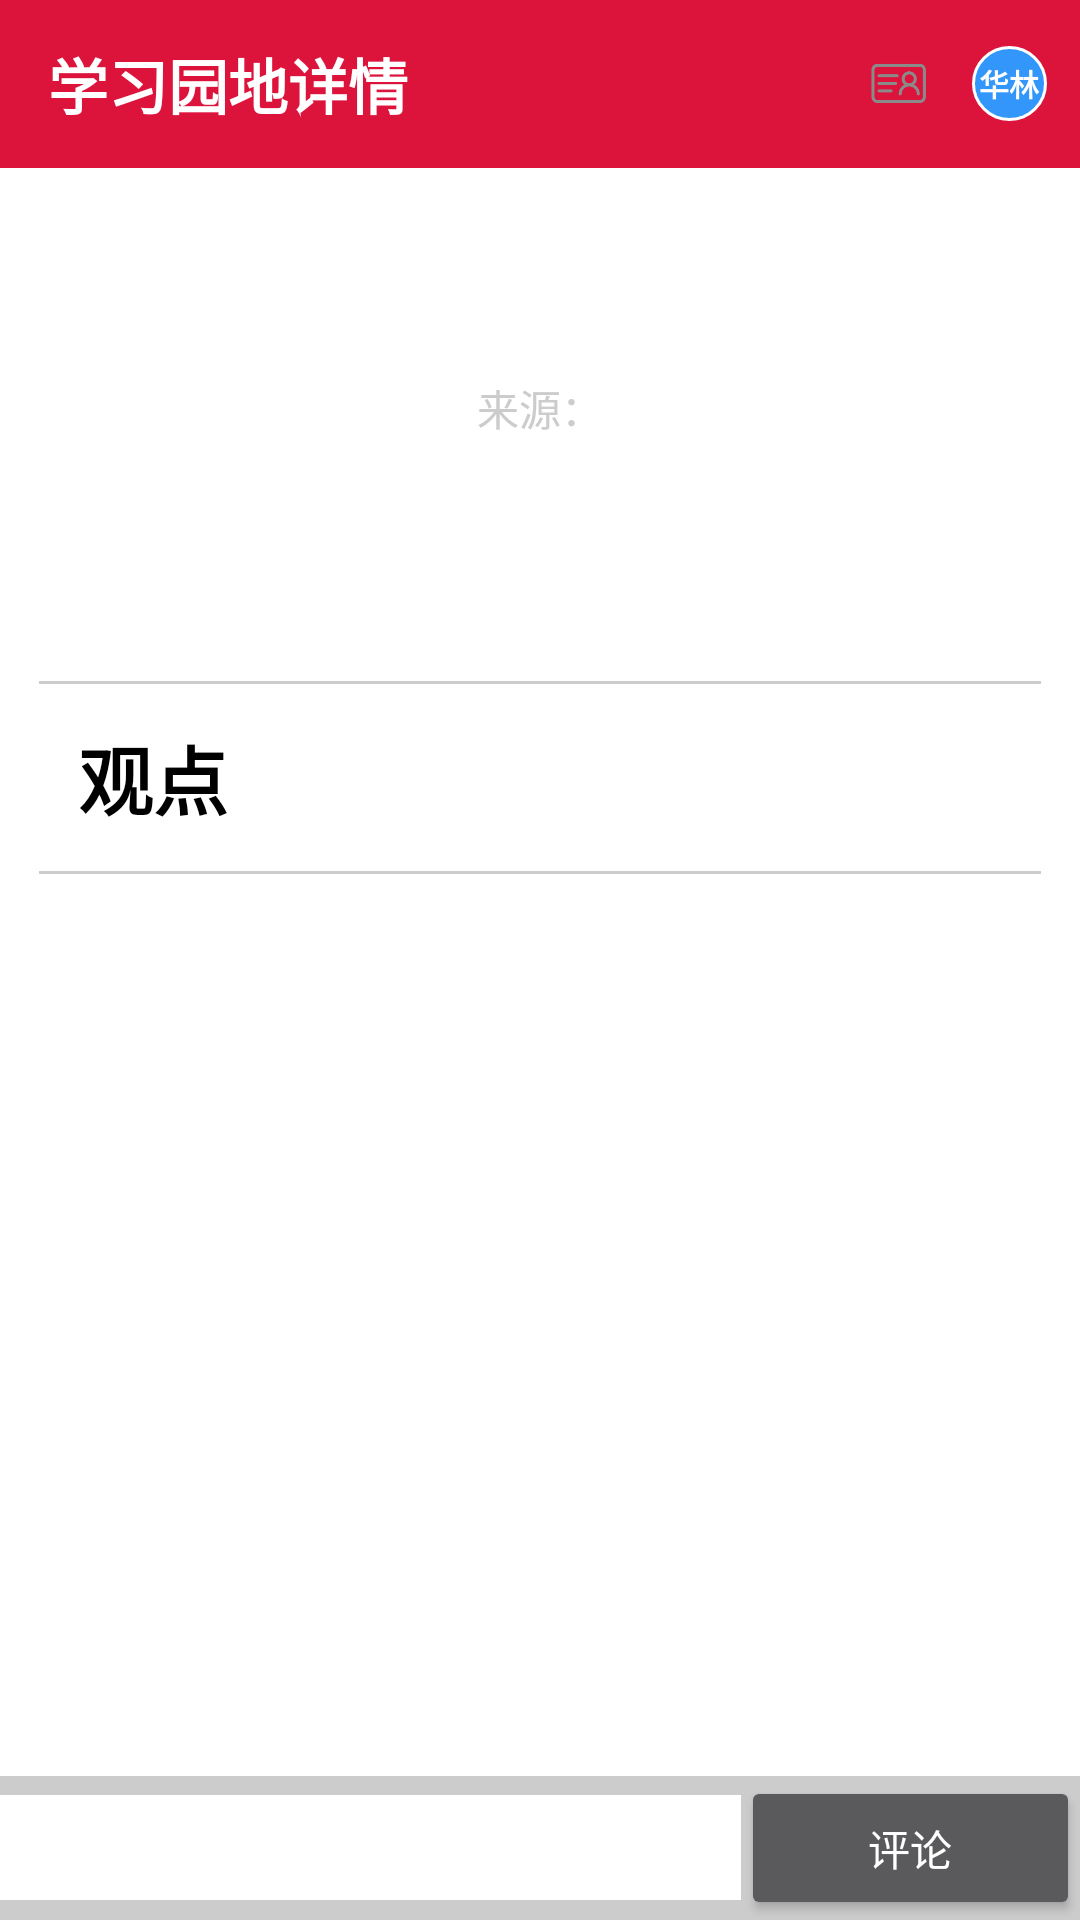

Icon bounding boxes for this 1080x1920 phone screenshot, format (x1, y1, x2, y2):
ident: (871, 64, 926, 103)
